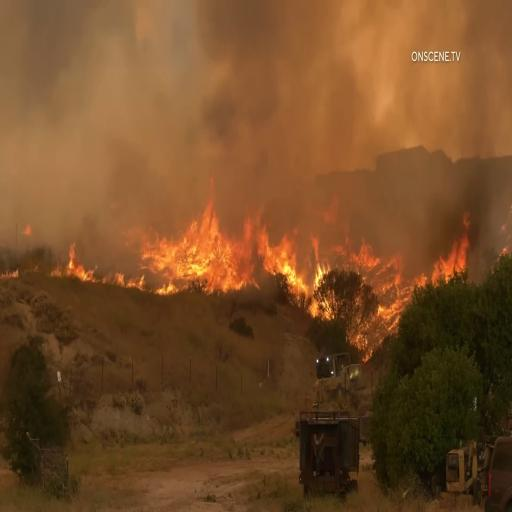fire: (131, 167, 256, 304), (246, 214, 308, 302), (405, 220, 480, 286), (52, 247, 95, 291), (313, 267, 340, 320)
smoke: (115, 2, 305, 156)
